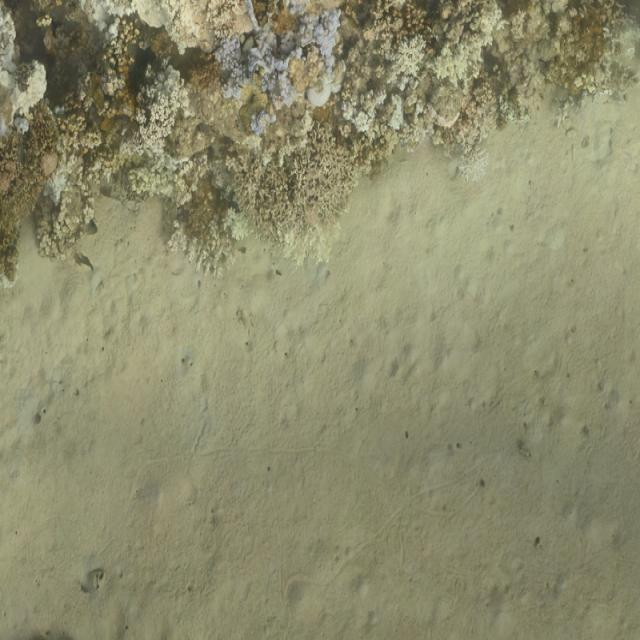Bleached Coral: (428, 0, 514, 96), (216, 34, 297, 123), (135, 60, 202, 146), (288, 0, 345, 72), (380, 30, 429, 92), (218, 201, 258, 251), (449, 142, 495, 185), (42, 160, 74, 208)
